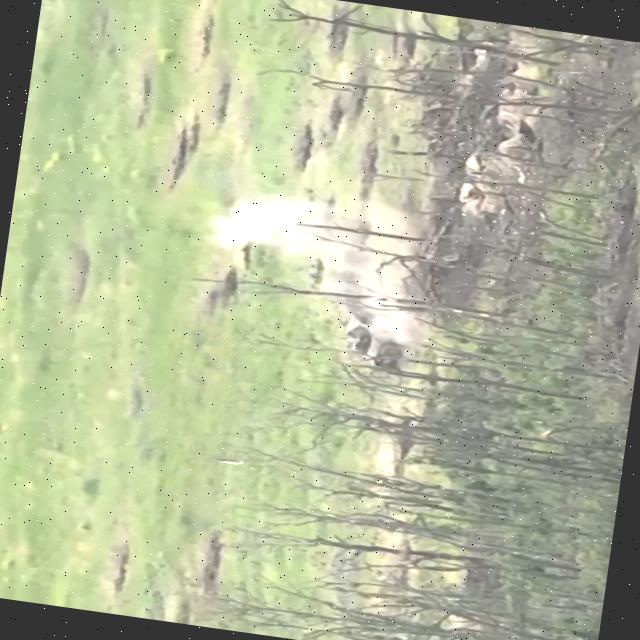AIFV: (331, 310, 416, 374)
